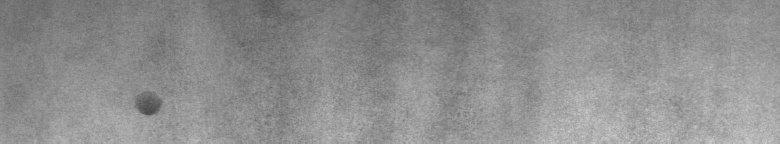fi: (136, 100, 162, 120)
